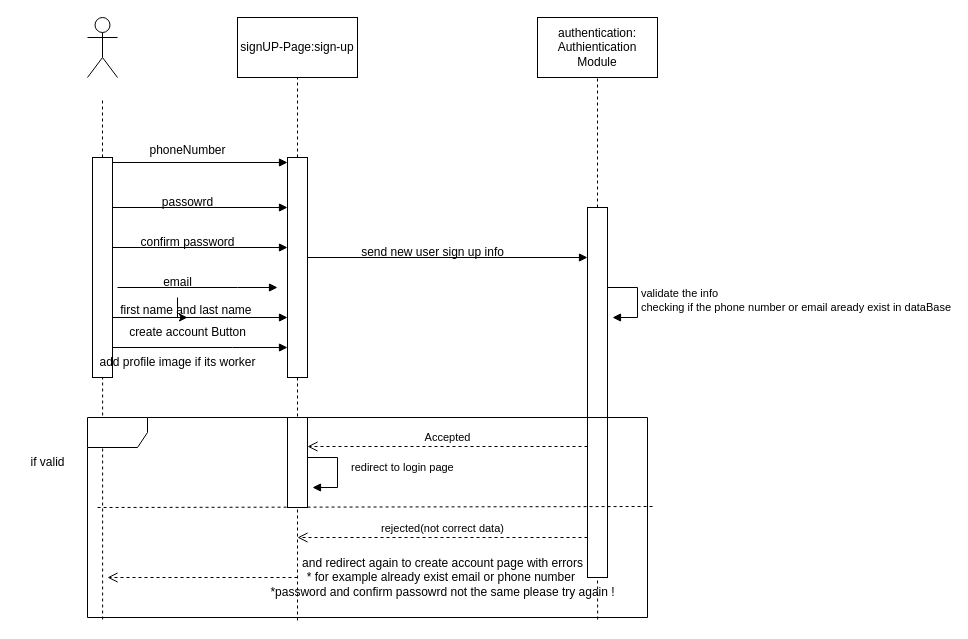
This 968x639 diagram has some shape labels left out. The box of each missing label's shape, as (x1, y1, x2, y2) in pixels:
frame: (86, 416, 648, 618)
User: (86, 16, 118, 78)
